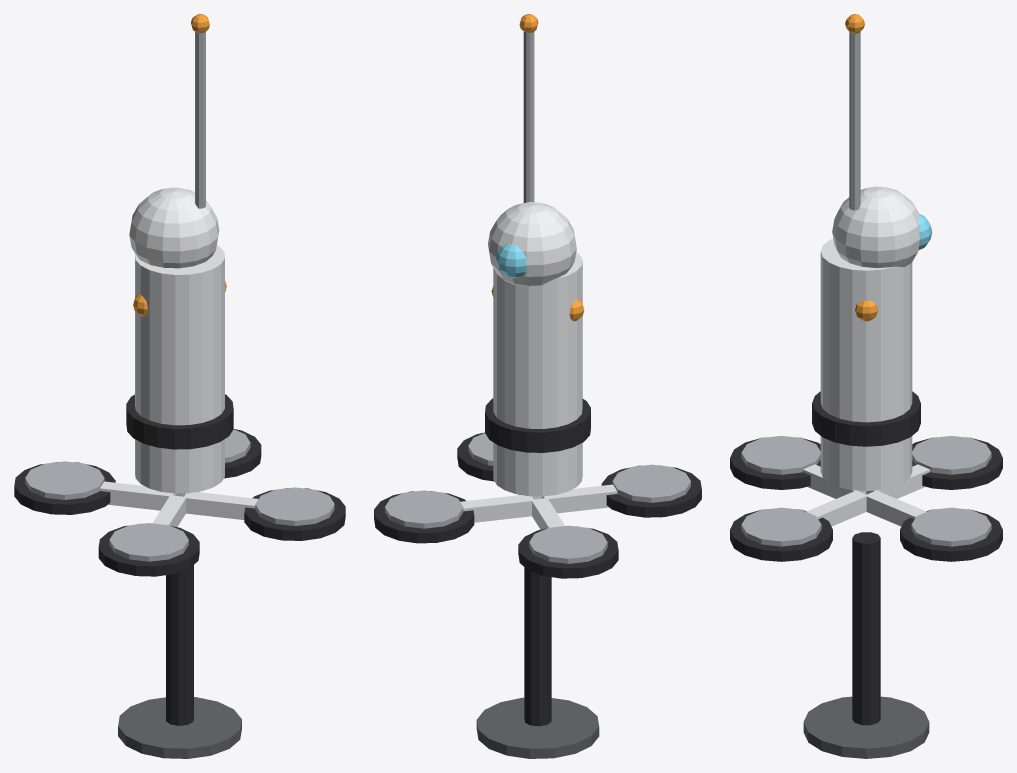
Rendered from SM_Unit_ScoutDrone.glb.
3 renders of one model, left to right at view 1: azimuth 30°, elevation 25°; view 2: azimuth 150°, elevation 25°; view 3: azimuth 270°, elevation 25°, orthographic.
Parts seen in each view (by area): view 1: SM_Unit_ScoutDrone; view 2: SM_Unit_ScoutDrone; view 3: SM_Unit_ScoutDrone.
Part boxes in pixels (x1,y1,x2,y2): SM_Unit_ScoutDrone: (14, 14, 345, 758); SM_Unit_ScoutDrone: (374, 14, 701, 758); SM_Unit_ScoutDrone: (730, 14, 1002, 758).
Bounding box in the file's own units: 0.954 × 2.8 × 0.954.
